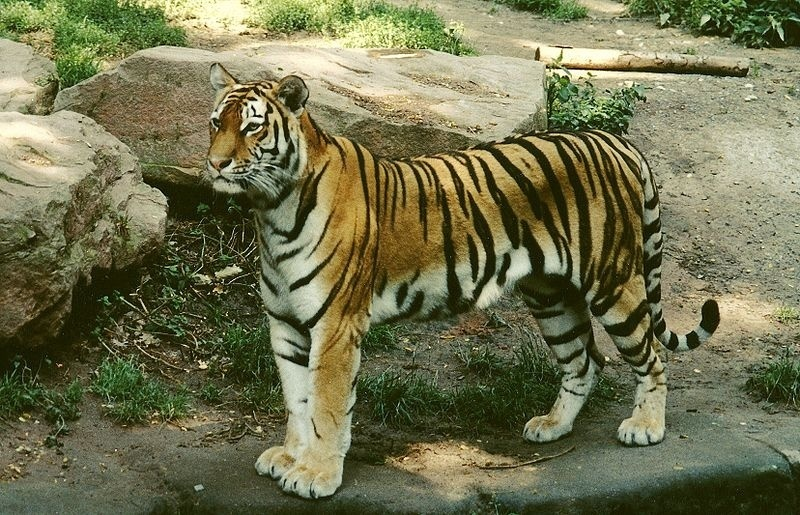tigre: (200, 58, 724, 507)
